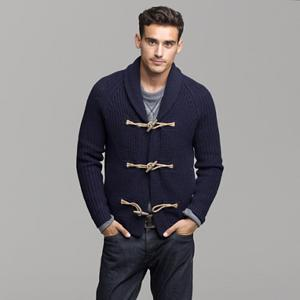S_cardigan sweater: (70, 62, 226, 245)
